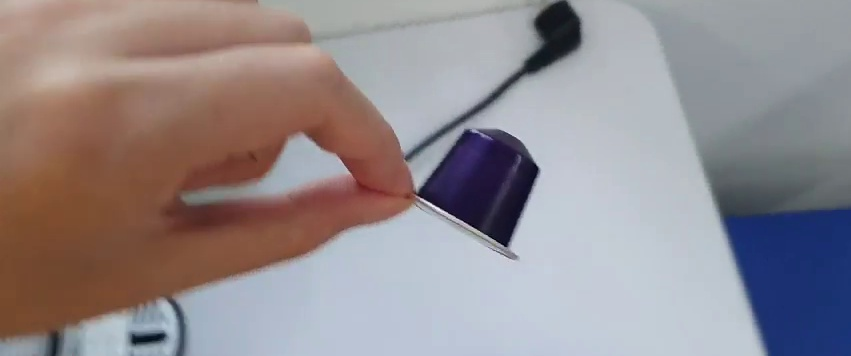capsule_11: (406, 125, 541, 262)
